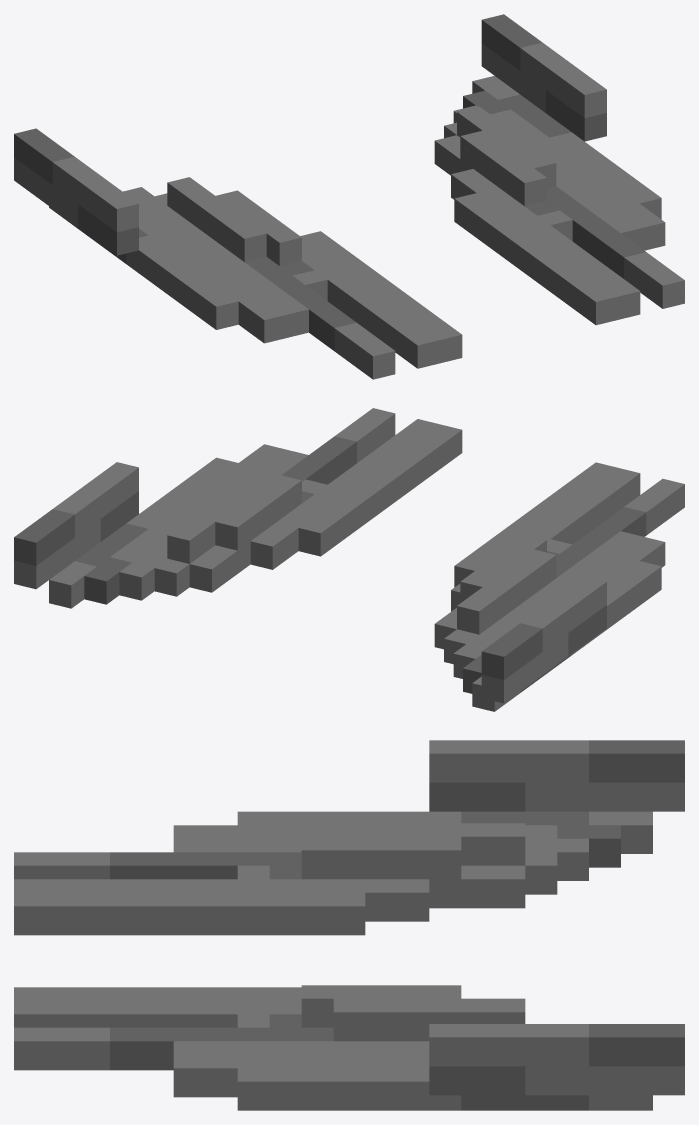
The model's file is Wing-17-Transtellar_BackFins.obj.
3 renders of one model, top to bottom at view 1: azimuth 30°, elevation 25°; view 2: azimuth 150°, elevation 25°; view 3: azimuth 270°, elevation 25°, orthographic. The views are drawn at different scales.
Visible parts, largest first — view 1: Transtellar_BackFins; view 2: Transtellar_BackFins; view 3: Transtellar_BackFins.
Boxes of the visible parts, left/top/right/bottom form: Transtellar_BackFins: left=14, top=14, right=684, bottom=379; Transtellar_BackFins: left=14, top=408, right=684, bottom=711; Transtellar_BackFins: left=14, top=740, right=684, bottom=1110.
Size of the model in its own units: 2.2 by 0.3 by 2.1.
Materials: 1 (1 with a texture image).
